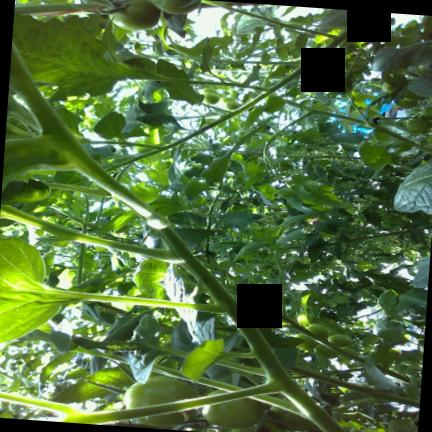6kp_peduncle: (355, 116, 391, 132)
6kp_petiole: (266, 286, 307, 331), (343, 383, 411, 407), (347, 102, 388, 132), (289, 101, 335, 124), (339, 236, 360, 249), (337, 146, 359, 157)
MainStem: (302, 104, 432, 153), (288, 364, 418, 407), (269, 306, 365, 362)
tomato: (123, 375, 197, 425), (201, 389, 263, 427), (109, 0, 159, 29), (151, 0, 200, 13), (406, 116, 432, 131), (295, 333, 317, 349), (327, 333, 352, 346), (305, 323, 328, 337), (314, 343, 336, 357), (395, 98, 417, 107), (403, 89, 420, 100), (203, 92, 218, 103), (421, 104, 432, 118), (381, 81, 395, 91), (225, 100, 240, 109), (199, 87, 217, 93), (219, 96, 234, 102), (276, 210, 288, 217)
